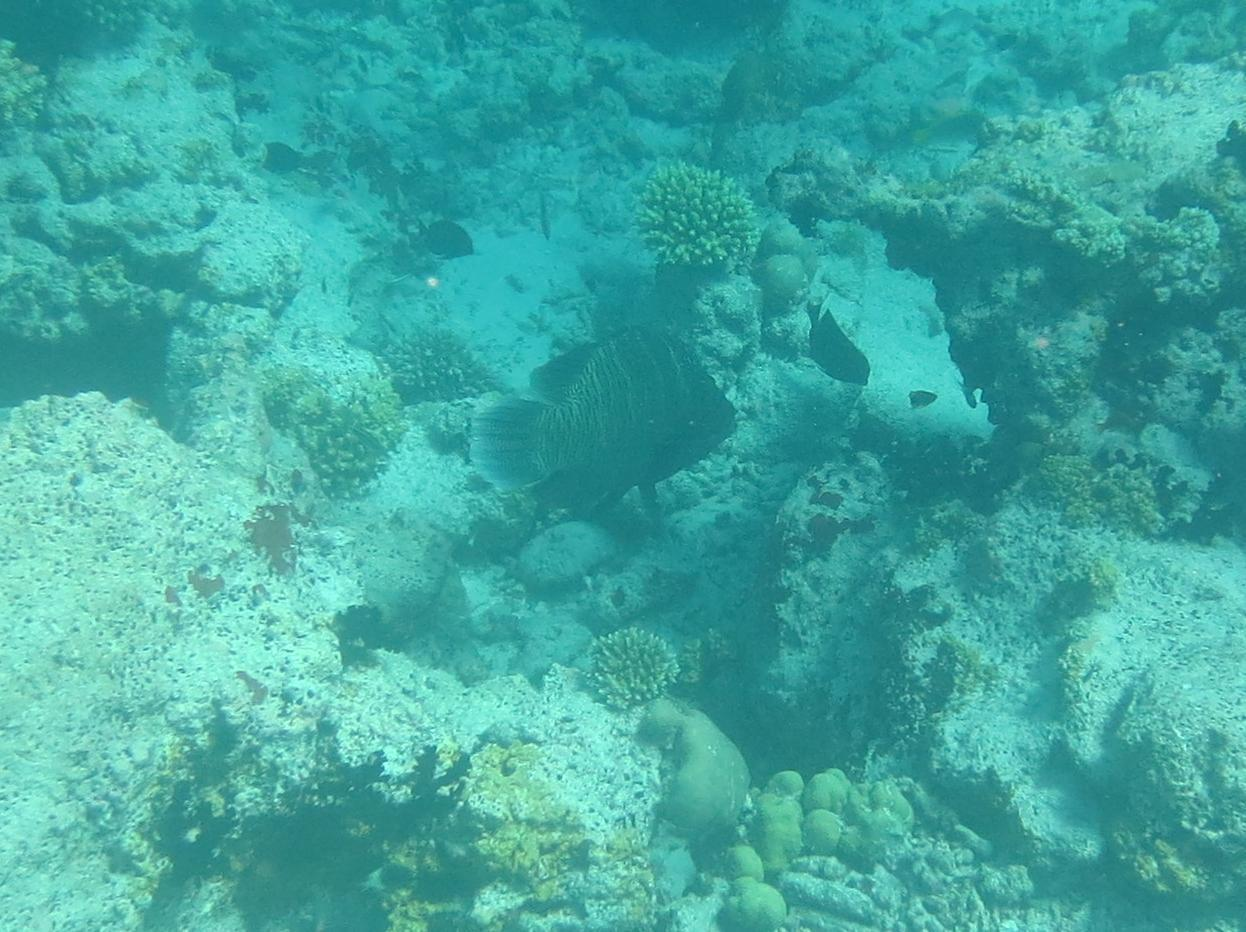Fish: (462, 320, 742, 520)
